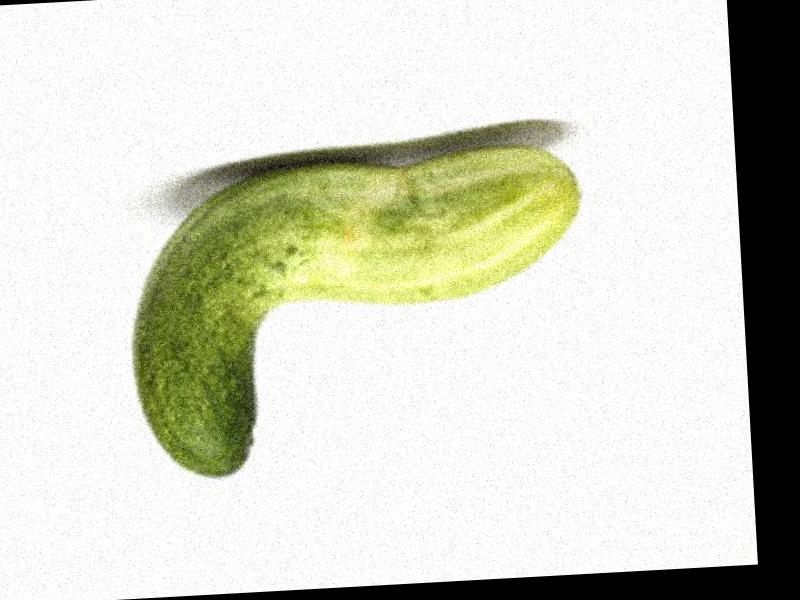Cucumber: (121, 139, 596, 481)
